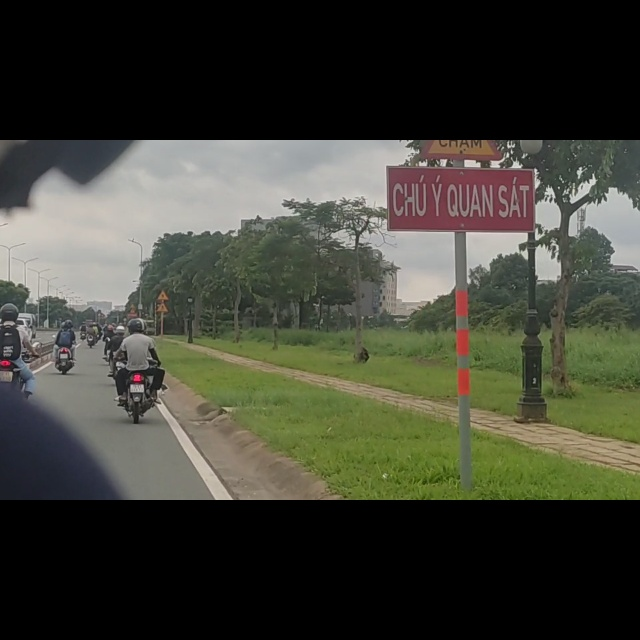bien_nguy_hiem: (157, 265, 169, 286), (156, 288, 169, 307)
